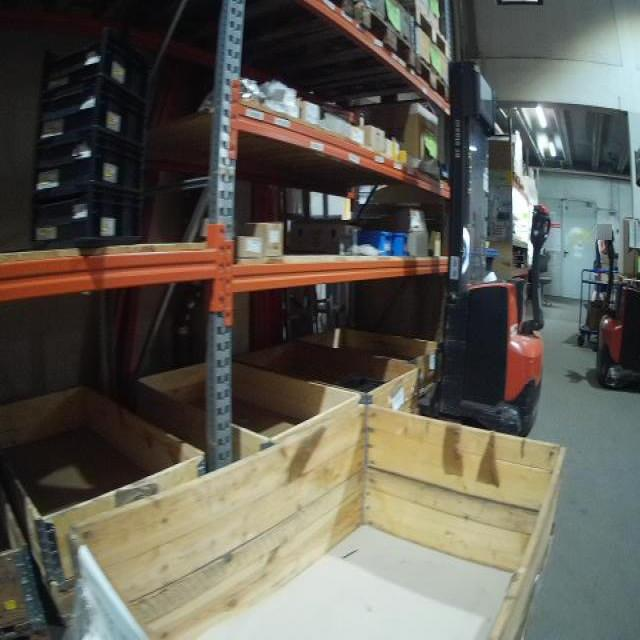pallet: (272, 8, 416, 78), (399, 4, 452, 59), (405, 55, 451, 104)
pallet_truck: (385, 35, 570, 448), (591, 213, 637, 400)
